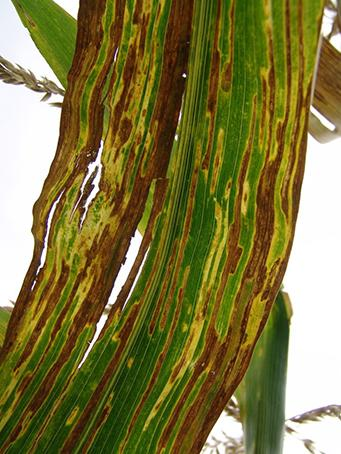Corn leaf blight: (6, 4, 333, 454)
